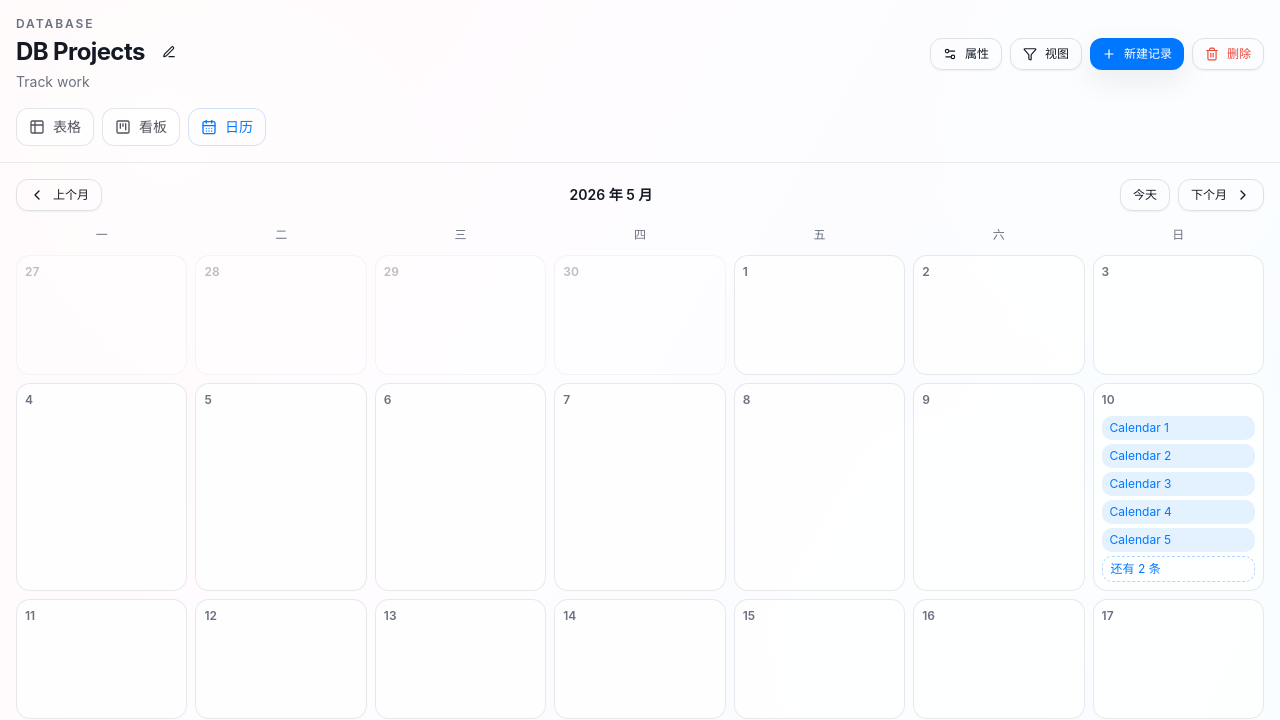
DatabasePage › collapses busy calendar days behind a more button
Expected: the button "Calendar 1" is shown, [1102,416,1255,440]
Expected: the text "Calendar 7" is not shown
Click the button "还有 2 条": (1178, 569) [1102,556,1255,582]
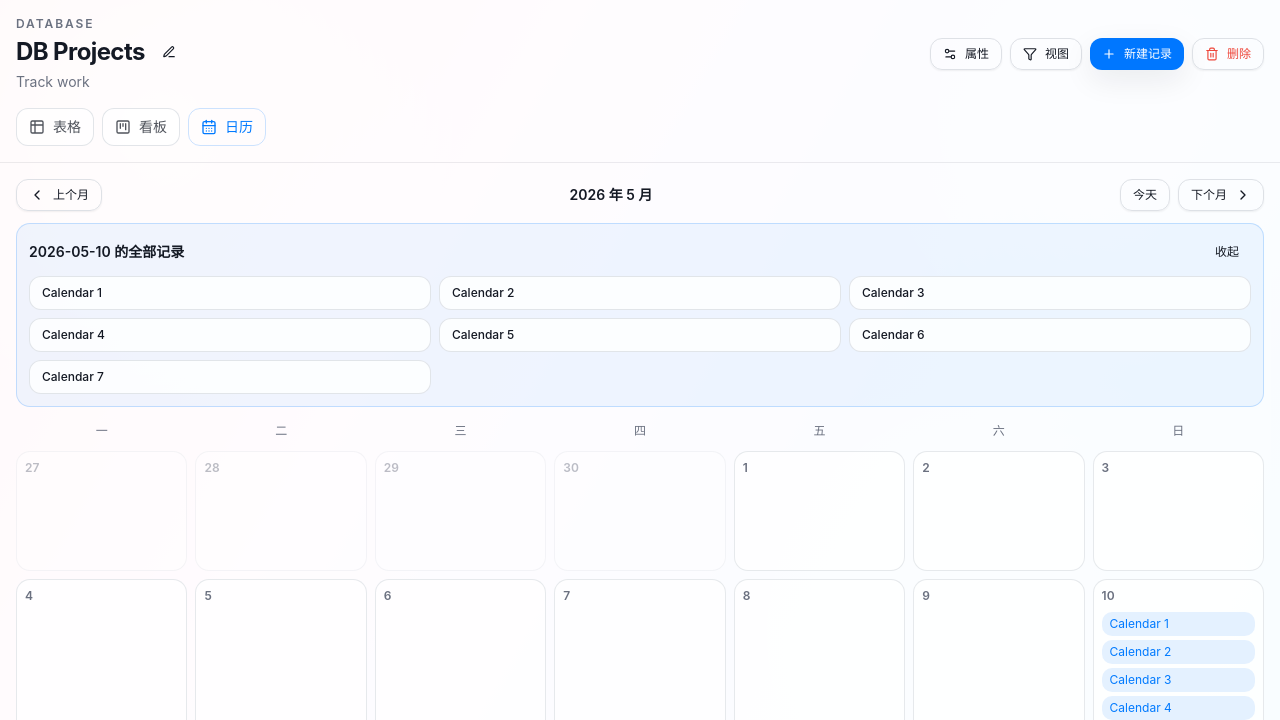
Expected: the text "2026-05-10 的全部记录" is shown, [29,242,184,262]
Expected: the button "Calendar 7" is shown, [29,360,431,394]
